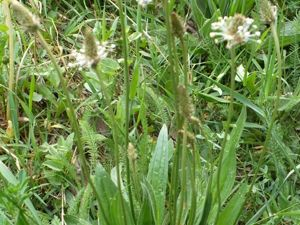buckhorn plantain: (10, 3, 255, 223)
